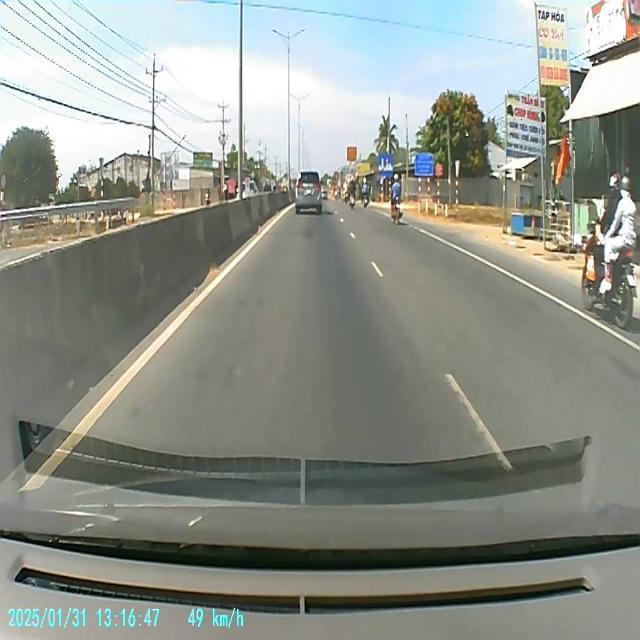421-ket-thuc-khu-dong-dan-cu: (378, 154, 394, 175)
